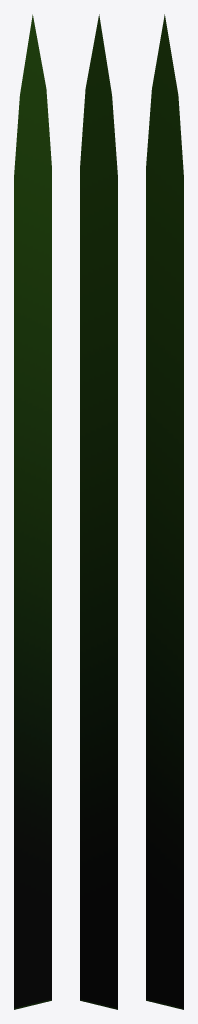
Rendered from grass.glb.
The picture shows the model from 3 angles, left to right: view 1: azimuth 30°, elevation 25°; view 2: azimuth 150°, elevation 25°; view 3: azimuth 330°, elevation 25°; orthographic projection.
Visible parts, largest first — view 1: Grass; view 2: Grass; view 3: Grass.
Part boxes in pixels (x1,y1,x2,y2): Grass: (14, 14, 51, 1009); Grass: (80, 14, 117, 1009); Grass: (146, 14, 183, 1009).
Bounding box in the file's own units: 0.02 × 0.4995 × 1.11e-05.
Materials: 1 (1 with a texture image).
